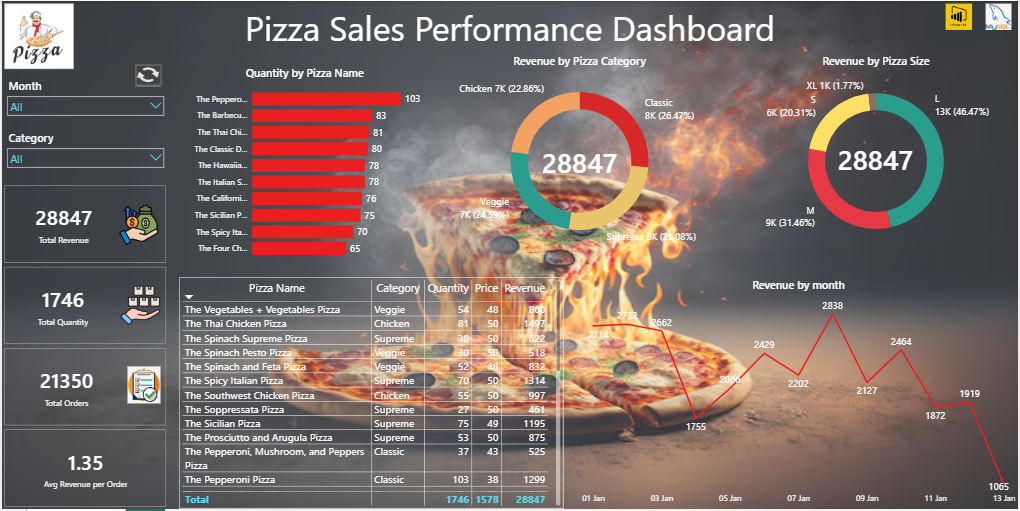

What the dashboard file says about the page in this screenshot:
{"tool":"powerbi","page":{"name":"Pizza Sales","canvas":[2000,1000],"ordinal":0},"visuals":[{"type":"shape","box":[0,0,2000,102.2],"z":0},{"type":"cardVisual","fields":{"Data":["pizzadb pizza_types.Total Revenue","pizzadb order_details.Total Quantity","pizzadb order_details.Total Orders","pizzadb order_details.Avg Revenue per Order"]},"box":[0,357.7,328.5,642.3],"z":1000},{"type":"slicer","fields":{"Values":["pizzadb orders.date.Variation.Date Hierarchy.Month"]},"box":[0,148.4,329,101.1],"z":2000},{"type":"donutChart","title":" Revenue by Pizza Category","fields":{"Category":["pizzadb pizza_types.category"],"Y":["pizzadb pizza_types.Total Revenue"]},"box":[830,102.5,612.5,397.5],"z":3000},{"type":"cardVisual","fields":{"Data":["pizzadb pizza_types.Total Revenue"]},"box":[1025.1,240.2,223.5,142.5],"z":4000},{"type":"tableEx","fields":{"Values":["pizzadb pizza_types.name","pizzadb pizza_types.category","Sum(pizzadb order_details.quantity)","Sum(pizzadb pizzas.price)","pizzadb pizza_types.Total Revenue"]},"box":[348.4,544.1,757,455.9],"z":5000},{"type":"donutChart","title":" Revenue by Pizza Size","fields":{"Y":["pizzadb pizza_types.Total Revenue"],"Category":["pizzadb pizzas.size"]},"box":[1442.5,102.5,555,397.5],"z":6000},{"type":"cardVisual","fields":{"Data":["pizzadb pizza_types.Total Revenue"]},"box":[1607.5,230,222.5,152.5],"z":7000},{"type":"clusteredBarChart","title":"Quantity by Pizza Name","fields":{"Category":["pizzadb pizza_types.name"],"Y":["Sum(pizzadb order_details.quantity)"]},"box":[362.5,125,467.5,392.5],"z":8000},{"type":"lineChart","title":"Revenue by month","fields":{"Category":["pizzadb orders.date.Variation.Date Hierarchy.Year","pizzadb orders.date.Variation.Date Hierarchy.Quarter","pizzadb orders.date.Variation.Date Hierarchy.Month","pizzadb orders.date.Variation.Date Hierarchy.Day"],"Y":["pizzadb order_details.Revenue by month"]},"box":[1135.5,544.1,864.5,455.9],"z":9000},{"type":"actionButton","box":[262.4,124.7,51.6,45.2],"z":10000},{"type":"slicer","fields":{"Values":["pizzadb pizza_types.category"]},"box":[0,249.5,329,101.1],"z":11000},{"type":"image","box":[1843,0,81.7,62.4],"z":12000},{"type":"image","box":[1924.7,0,73.1,62.4],"z":13000},{"type":"cardVisual","fields":{"Data":["pizzadb order_details.pizza"]},"box":[0,0,146.2,139.8],"z":14000}]}

Visuals, with their boxes in screenshot pixels (x1, y1, x2, y2), scaled from the page's 2000x1000 canvas onto the 1020x511 screenshot:
shape: crop(0, 0, 1019, 52)
cardVisual - pizzadb pizza_types.Total Revenue x pizzadb order_details.Total Quantity: crop(0, 183, 168, 510)
slicer - pizzadb orders.date.Variation.Date Hierarchy.Month: crop(0, 76, 168, 127)
" Revenue by Pizza Category" donutChart: crop(423, 52, 736, 256)
cardVisual - pizzadb pizza_types.Total Revenue: crop(523, 123, 637, 196)
tableEx - pizzadb pizza_types.name x pizzadb pizza_types.category: crop(178, 278, 564, 510)
" Revenue by Pizza Size" donutChart: crop(736, 52, 1019, 256)
cardVisual - pizzadb pizza_types.Total Revenue: crop(820, 118, 933, 195)
"Quantity by Pizza Name" clusteredBarChart: crop(185, 64, 423, 264)
"Revenue by month" lineChart: crop(579, 278, 1019, 510)
actionButton: crop(134, 64, 160, 87)
slicer - pizzadb pizza_types.category: crop(0, 127, 168, 179)
image: crop(940, 0, 982, 32)
image: crop(982, 0, 1019, 32)
cardVisual - pizzadb order_details.pizza: crop(0, 0, 75, 71)
